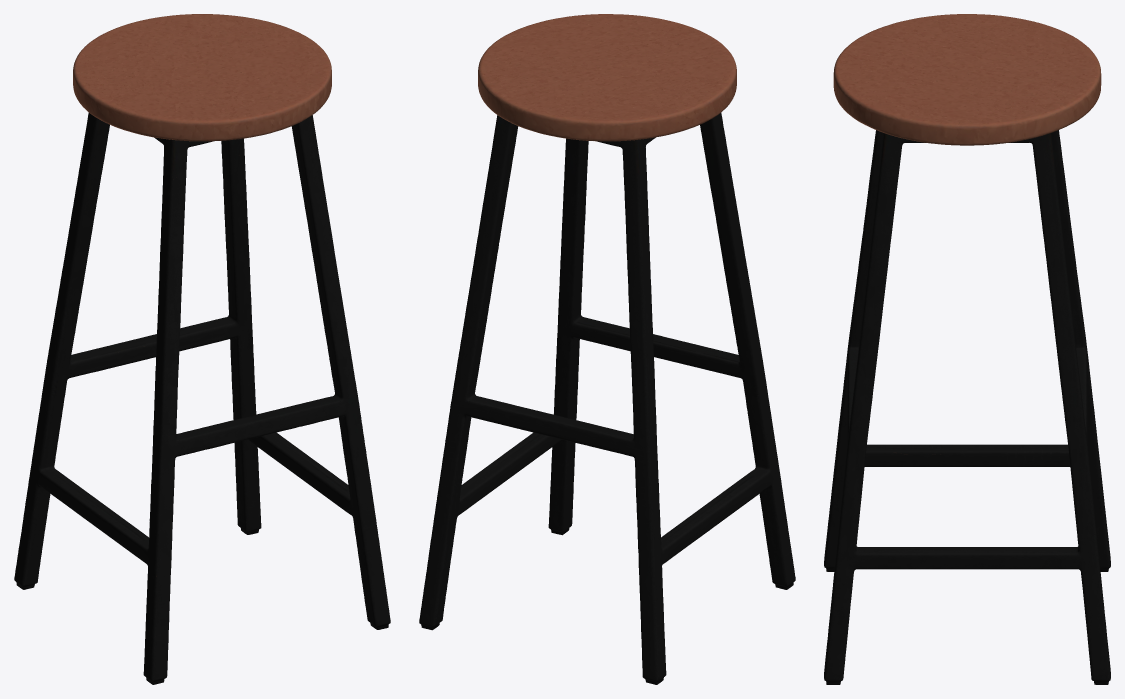
The model's file is banqueta_texture.fbx.
3 views of the same model, side by side, from view 1: azimuth 30°, elevation 25°; view 2: azimuth 150°, elevation 25°; view 3: azimuth 270°, elevation 25° (orthographic). The views are drawn at different scales.
Parts seen in each view (by area): view 1: Mesh_0; view 2: Mesh_0; view 3: Mesh_0.
Boxes of the visible parts, bbox=[...] form: Mesh_0: bbox=[14, 14, 390, 684]; Mesh_0: bbox=[419, 14, 795, 684]; Mesh_0: bbox=[824, 14, 1110, 684].
Bounding box in the file's own units: 88.38 × 190 × 88.74.
1 material, 1 textured.
